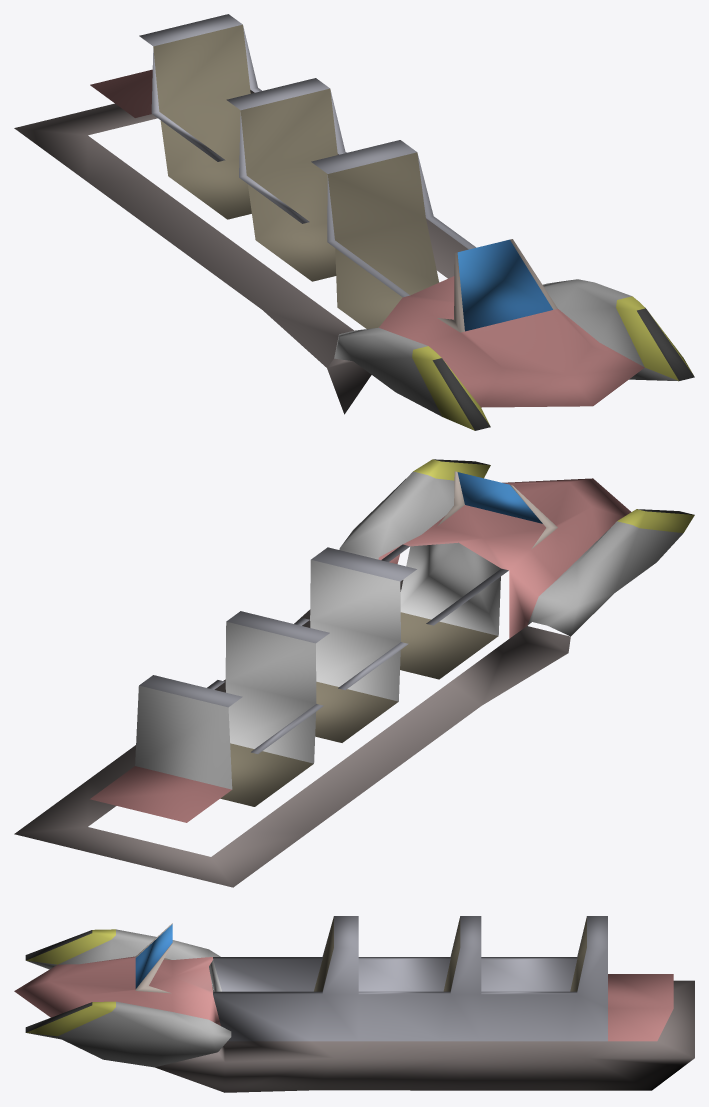
File: gchc.hrc.gltf
3 renders of one model, top to bottom at view 1: azimuth 30°, elevation 25°; view 2: azimuth 150°, elevation 25°; view 3: azimuth 270°, elevation 25°, orthographic. The views are drawn at different scales.
Parts seen in each view (by area): view 1: gchcBone0_null; view 2: gchcBone0_null; view 3: gchcBone0_null.
Boxes of the visible parts, x1,y1,x2,y2 form: gchcBone0_null: (14, 14, 694, 430); gchcBone0_null: (14, 459, 694, 887); gchcBone0_null: (14, 916, 694, 1092).
Bounding box in the file's own units: 37.63 × 23.66 × 117.
